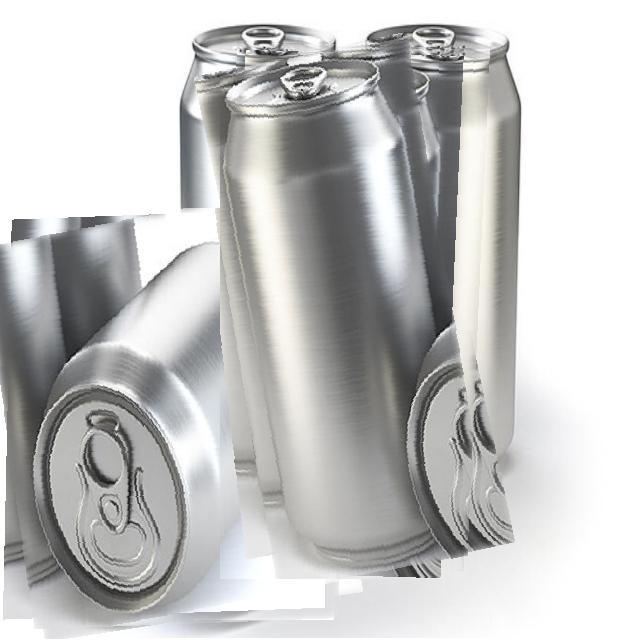recyclable: (0, 208, 348, 631), (220, 41, 490, 579)
